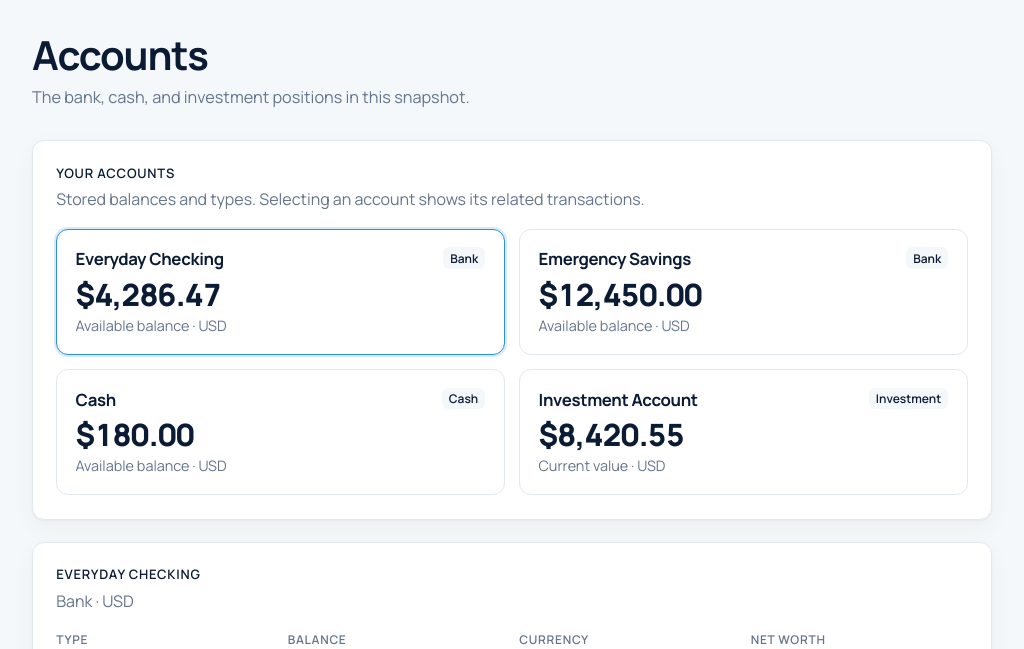
Test: Finora account detail › updates the detail after selecting a different account
This screenshot has width=1024, height=649.
Click the button "Investment Account Investment $8,420.55 Current value · USD". click: point(618, 399)
box: [519,369,968,495]
(page scrolled)
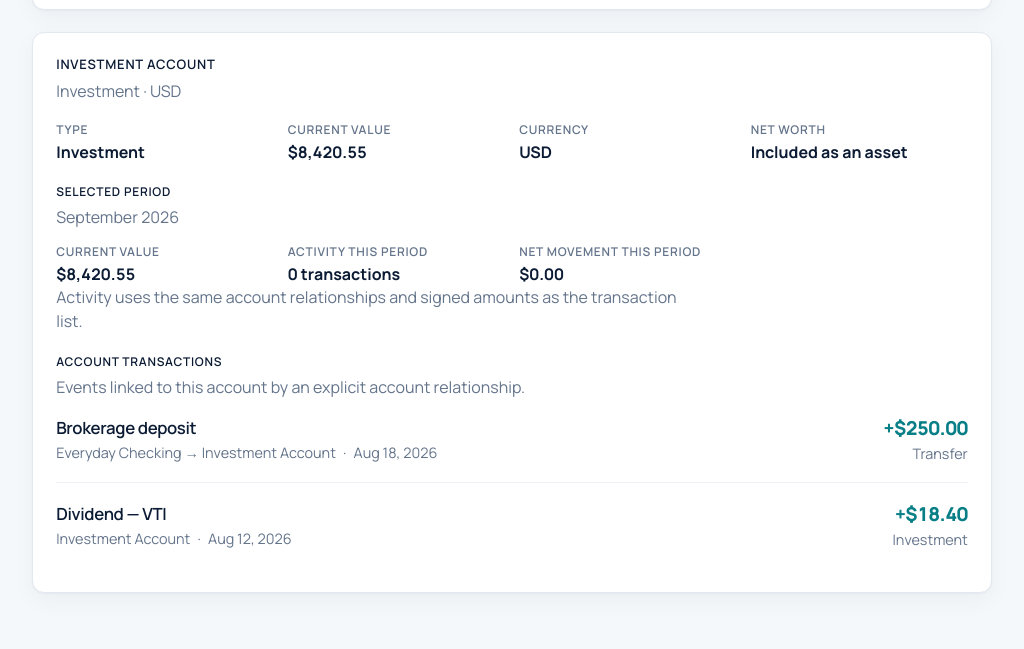
Now the text "Investment" in the row of "Included as an asset" is shown, box [56,141,145,163]
Now the text "$8,420.55" in the row of "Included as an asset" is shown, box [288,141,367,163]
Now the text "Dividend — VTI" is shown, box [56,502,166,525]
